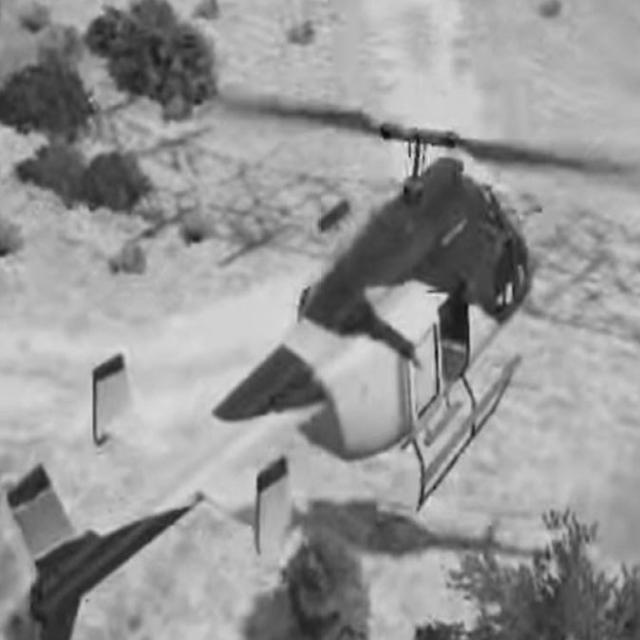helicopter: (5, 91, 580, 640)
